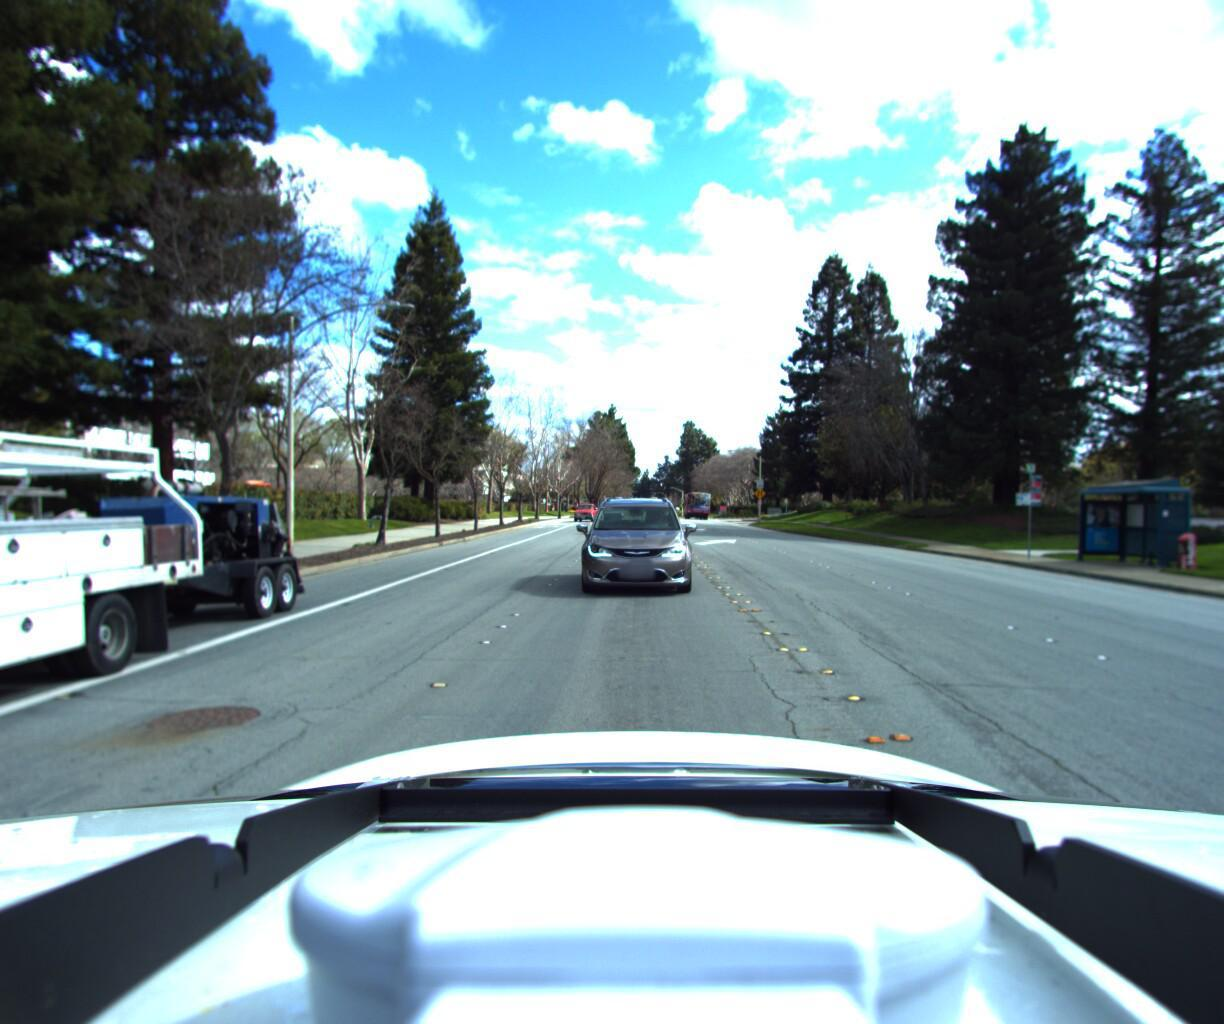car: (573, 491, 699, 608), (569, 513, 597, 531)
